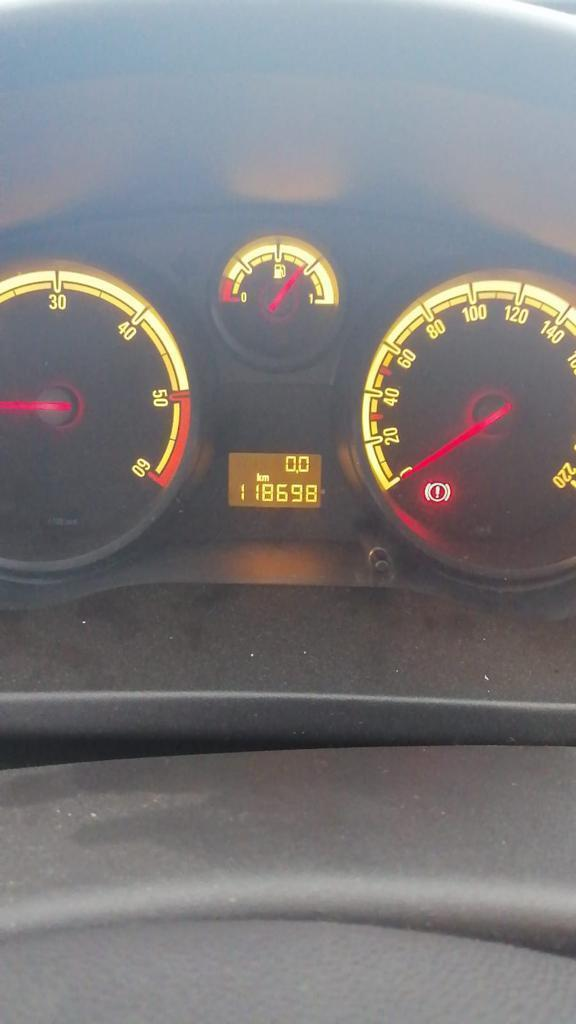,: (295, 469, 298, 473)
0: (285, 455, 296, 472), (298, 455, 309, 472)
1: (253, 483, 260, 501), (239, 482, 245, 501)
6: (275, 483, 288, 502)
8: (260, 482, 274, 502), (305, 483, 318, 503)
9: (290, 483, 303, 503)
X: (256, 471, 261, 481), (262, 475, 269, 481)
odometer: (223, 445, 327, 512)
